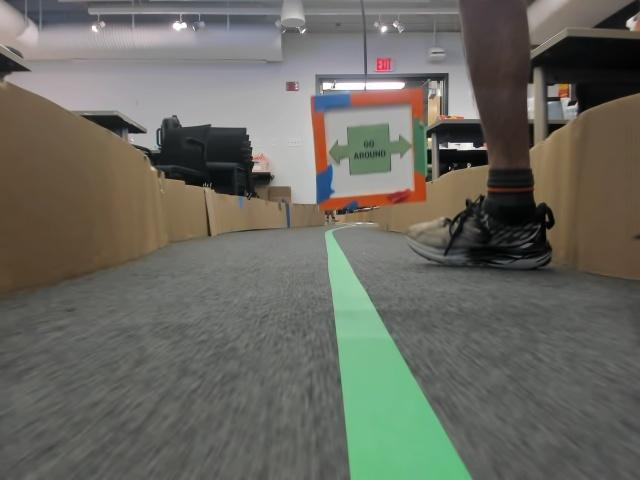Go Around: (327, 128, 410, 175)
